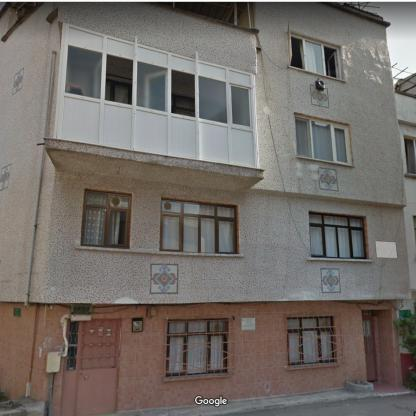door: (61, 320, 120, 415), (362, 311, 375, 380)
window: (63, 26, 254, 132), (161, 200, 235, 252), (166, 320, 226, 376), (288, 24, 340, 78), (82, 190, 130, 248), (296, 116, 349, 164), (310, 214, 365, 258), (287, 317, 334, 364), (405, 138, 415, 174)
